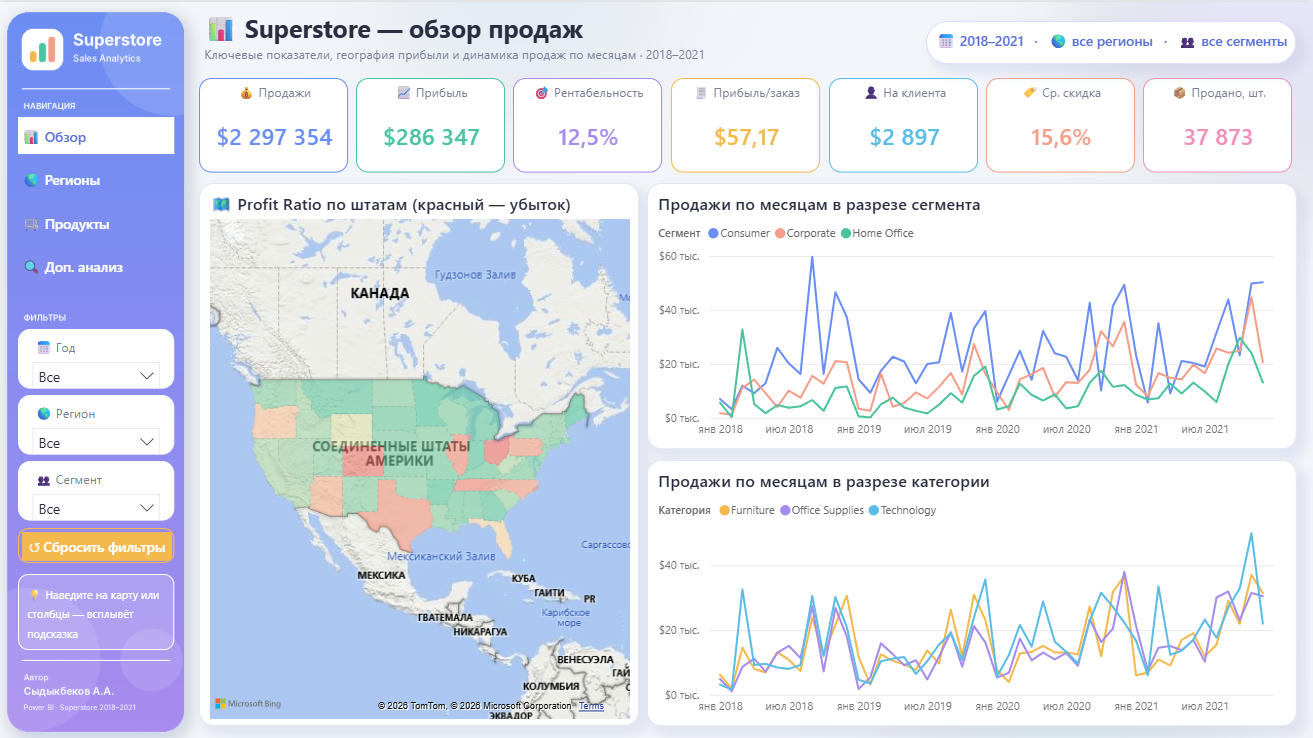

This screenshot's page, from the dashboard's own definition file:
{"tool":"powerbi","page":{"name":"Обзор","canvas":[1280,720],"ordinal":0},"visuals":[{"type":"textbox","box":[196,4,700,66],"z":1000},{"type":"card","title":"💰 Продажи","fields":{"Values":["Orders.Total Sales"]},"box":[196,74,145,92],"z":4000},{"type":"card","title":"📈 Прибыль","fields":{"Values":["Orders.Total Profit"]},"box":[349,74,145,92],"z":5000},{"type":"card","title":"🎯 Рентабельность","fields":{"Values":["Orders.Profit Ratio"]},"box":[502,74,145,92],"z":6000},{"type":"card","title":"🧾 Прибыль/заказ","fields":{"Values":["Orders.Profit per Order"]},"box":[656,74,145,92],"z":7000},{"type":"card","title":"👤 На клиента","fields":{"Values":["Orders.Sales per Customer"]},"box":[809,74,145,92],"z":8000},{"type":"card","title":"🏷️ Ср. скидка","fields":{"Values":["Orders.Avg Discount"]},"box":[962,74,145,92],"z":9000},{"type":"card","title":"📦 Продано, шт.","fields":{"Values":["Orders.Total Quantity"]},"box":[1115,74,145,92],"z":10000},{"type":"filledMap","title":"🗺️ Profit Ratio по штатам (красный — убыток)","fields":{"Category":["Orders.State"]},"box":[196,176,428,528],"z":11000},{"type":"lineChart","title":"Продажи по месяцам в разрезе сегмента","fields":{"Category":["Orders.Order Month"],"Series":["Orders.Segment"],"Y":["Orders.Total Sales"]},"box":[632,176,632,259],"z":12000},{"type":"lineChart","title":"Продажи по месяцам в разрезе категории","fields":{"Category":["Orders.Order Month"],"Series":["Orders.Category"],"Y":["Orders.Total Sales"]},"box":[632,445,632,259],"z":13000},{"type":"actionButton","box":[20,112,152,36],"z":50000},{"type":"actionButton","box":[20,154,152,36],"z":50100},{"type":"actionButton","box":[20,196,152,36],"z":50200},{"type":"actionButton","box":[20,238,152,36],"z":50300},{"type":"slicer","fields":{"Values":["Orders.Order Year"]},"box":[20,318,152,58],"z":50400},{"type":"slicer","fields":{"Values":["Orders.Region"]},"box":[20,382,152,58],"z":50500},{"type":"slicer","fields":{"Values":["Orders.Segment"]},"box":[20,446,152,58],"z":50600},{"type":"actionButton","box":[20,512,152,34],"z":50700},{"type":"textbox","box":[20,556,152,74],"z":50800},{"type":"card","fields":{"Values":["Orders.Filter Label"]},"box":[904,18,360,42],"z":50900}]}

Visuals, with their boxes on the page's 1280x720 design canvas (x1, y1, x2, y2). These are canvas units, not pixel positions in the 1313x738 screenshot, which may show the page scaled, cropped or inside an application window:
textbox: <region>196, 4, 896, 70</region>
"💰 Продажи" card: <region>196, 74, 341, 166</region>
"📈 Прибыль" card: <region>349, 74, 494, 166</region>
"🎯 Рентабельность" card: <region>502, 74, 647, 166</region>
"🧾 Прибыль/заказ" card: <region>656, 74, 801, 166</region>
"👤 На клиента" card: <region>809, 74, 954, 166</region>
"🏷️ Ср. скидка" card: <region>962, 74, 1107, 166</region>
"📦 Продано, шт." card: <region>1115, 74, 1260, 166</region>
"🗺️ Profit Ratio по штатам (красный — убыток)" filledMap: <region>196, 176, 624, 704</region>
"Продажи по месяцам в разрезе сегмента" lineChart: <region>632, 176, 1264, 435</region>
"Продажи по месяцам в разрезе категории" lineChart: <region>632, 445, 1264, 704</region>
actionButton: <region>20, 112, 172, 148</region>
actionButton: <region>20, 154, 172, 190</region>
actionButton: <region>20, 196, 172, 232</region>
actionButton: <region>20, 238, 172, 274</region>
slicer - Orders.Order Year: <region>20, 318, 172, 376</region>
slicer - Orders.Region: <region>20, 382, 172, 440</region>
slicer - Orders.Segment: <region>20, 446, 172, 504</region>
actionButton: <region>20, 512, 172, 546</region>
textbox: <region>20, 556, 172, 630</region>
card - Orders.Filter Label: <region>904, 18, 1264, 60</region>
